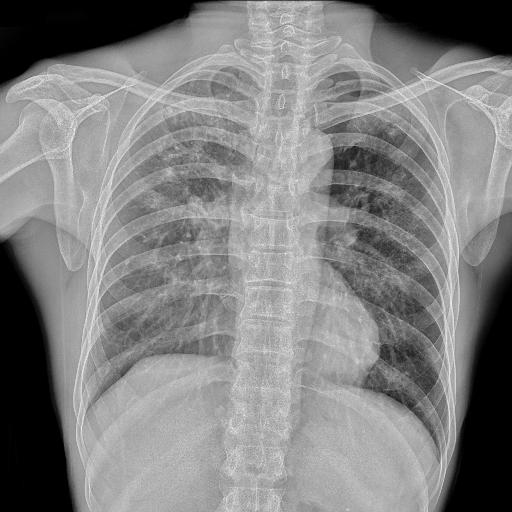ILD: (58, 0, 186, 214), (300, 0, 390, 246)
Infiltration: (310, 0, 396, 217), (107, 30, 183, 160)
Lung Opacity: (0, 0, 167, 242)
Pulmonary fibrosis: (346, 76, 388, 126), (148, 72, 180, 122)
